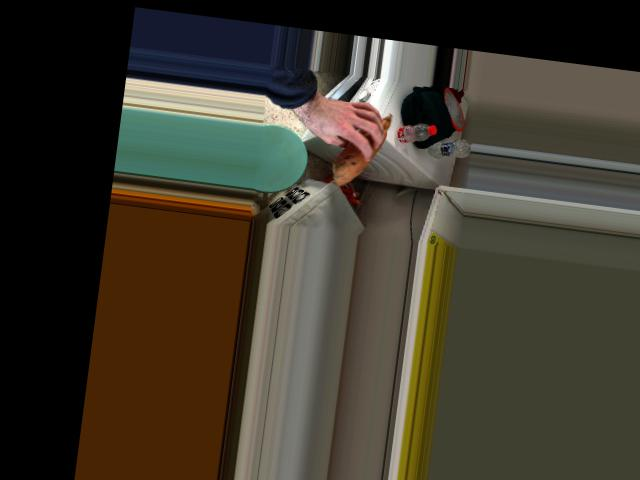sweet_potato: (330, 104, 389, 187)
